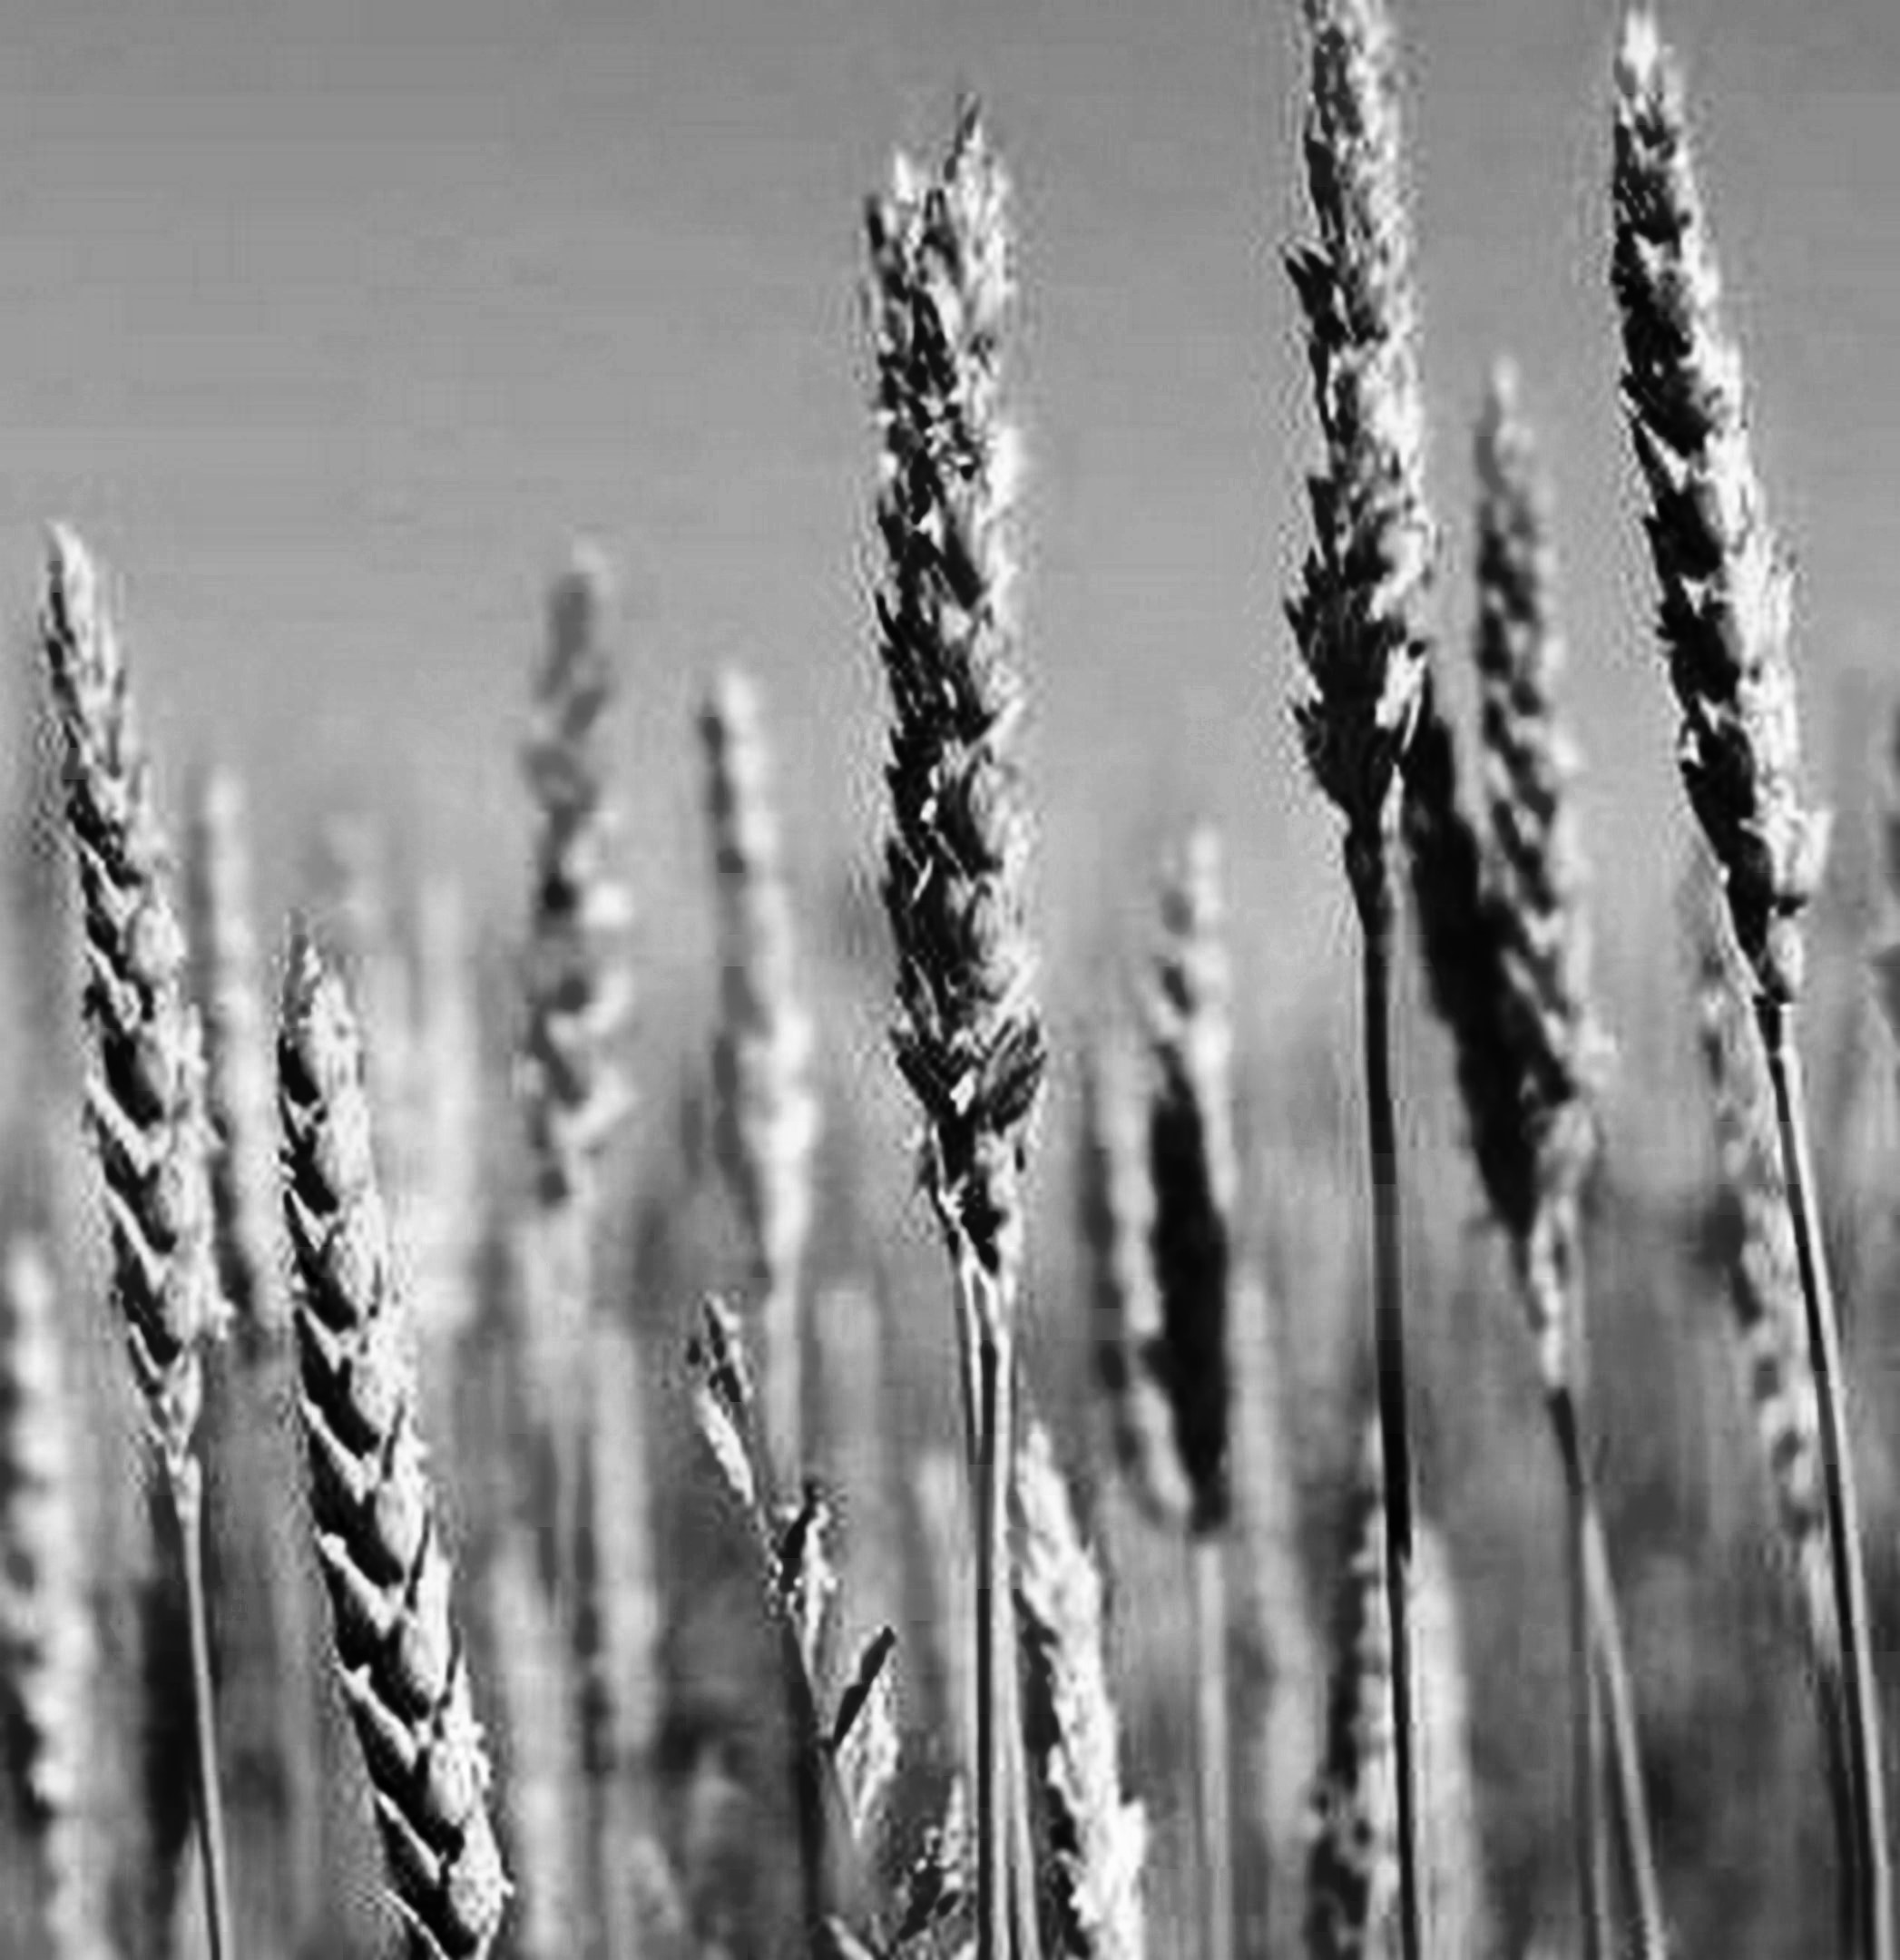Healthy Wheat: (259, 919, 563, 1892), (17, 523, 217, 1400)
